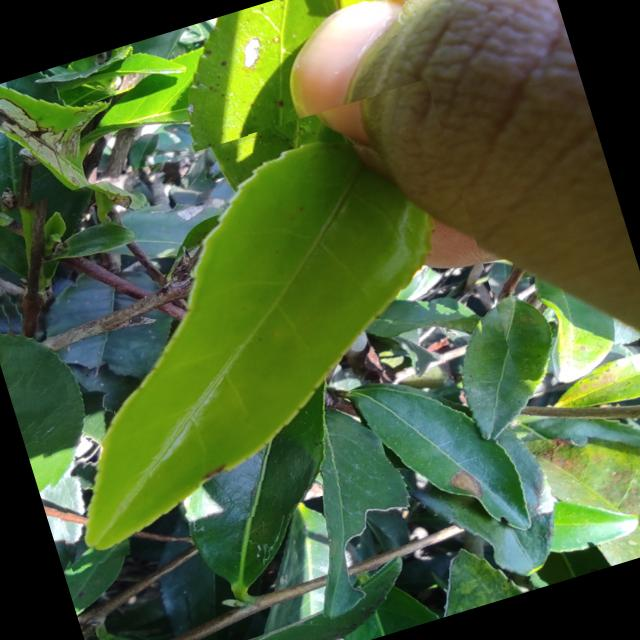Category C(4-7 days): (0, 79, 532, 572)
